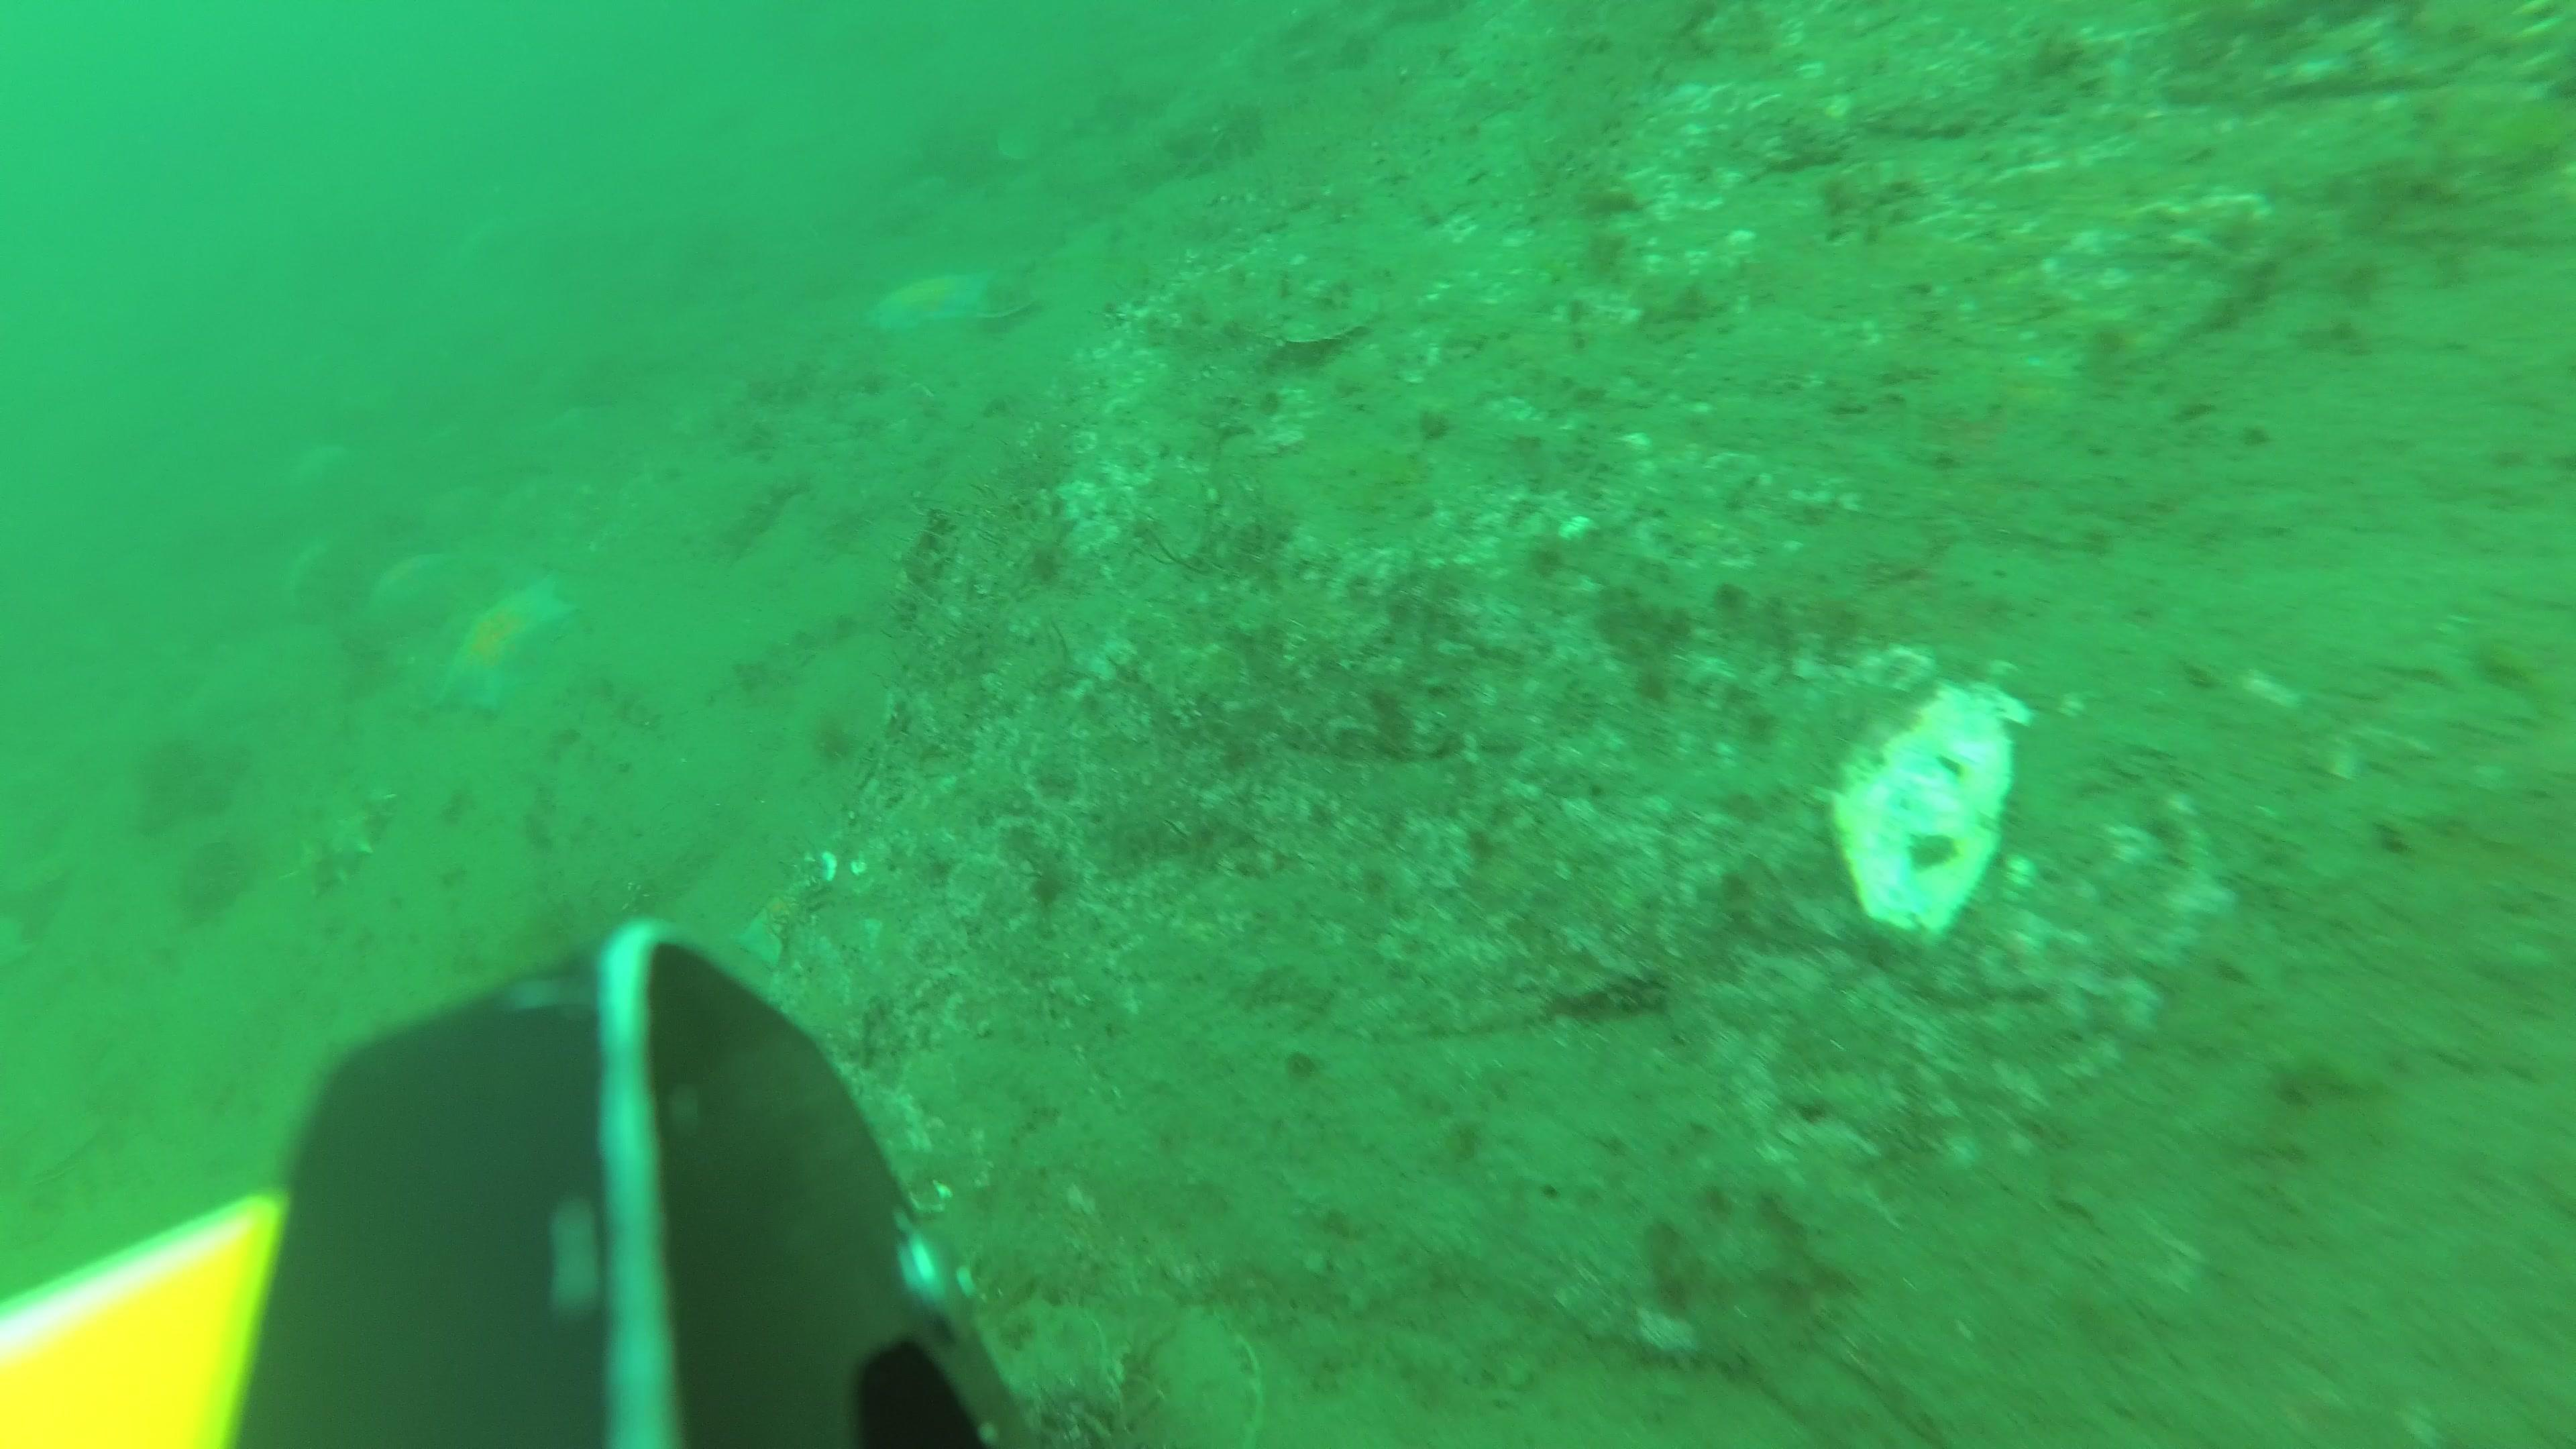holothurian: (304, 786, 396, 893)
starfish: (435, 570, 575, 718), (863, 267, 996, 341), (740, 874, 835, 970), (370, 554, 444, 633)
